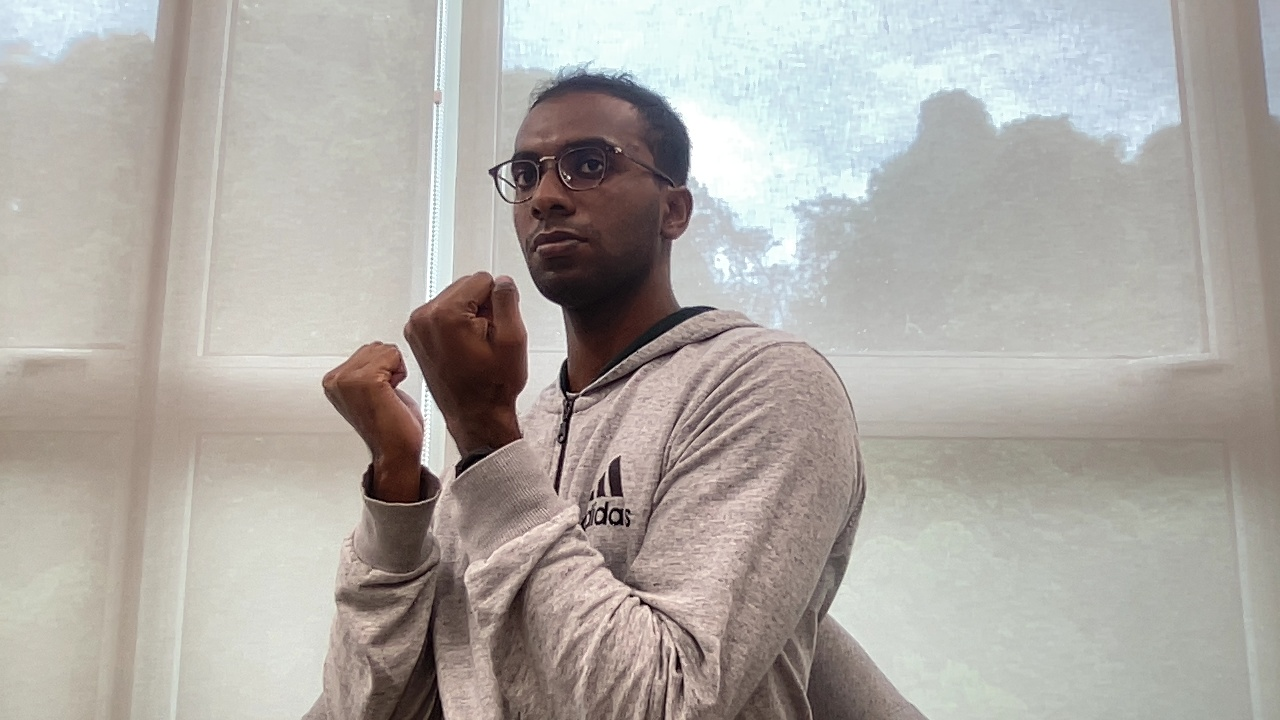finish: (320, 264, 535, 455)
